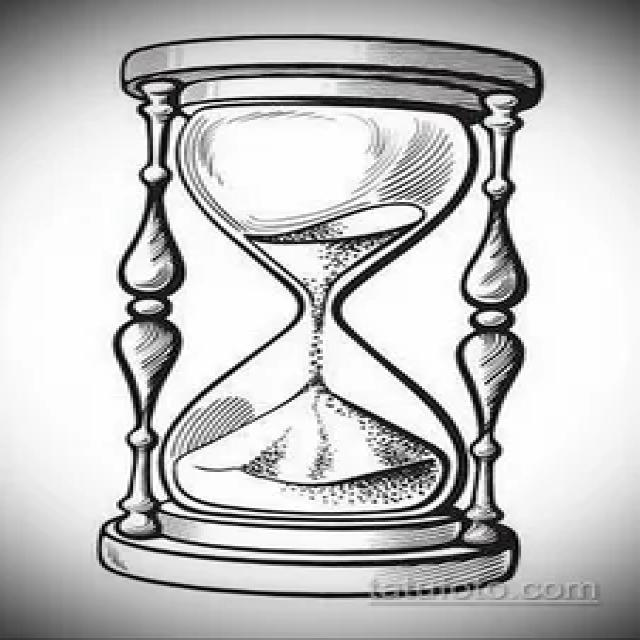clock: (77, 26, 552, 596)
